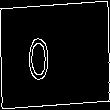O_N: (44, 28, 66, 82)
